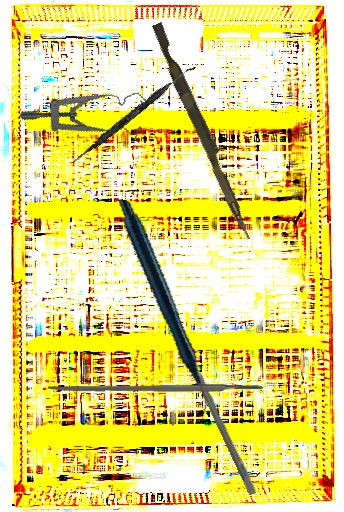Handpiece: (73, 198, 251, 415)
Pusher: (145, 21, 261, 242)
Scalpel Handle: (48, 384, 264, 393)
Spatula Surgical: (69, 60, 197, 169)
Speculum: (18, 54, 155, 164)
Surgical Spoon: (170, 321, 258, 496)
